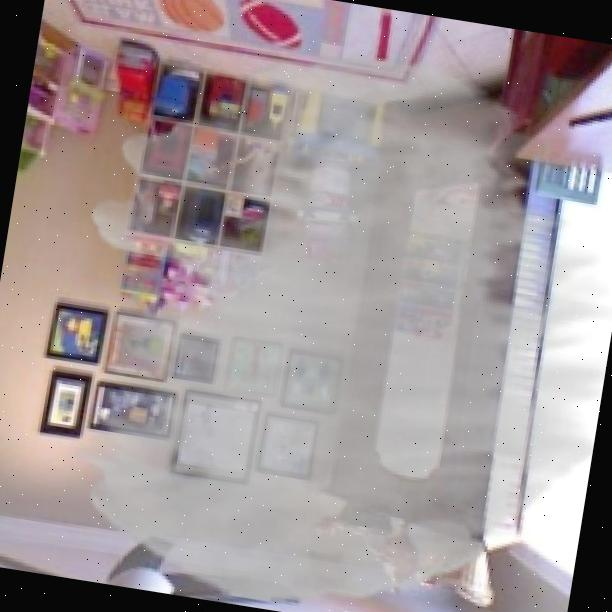smoke: (36, 15, 612, 612)
